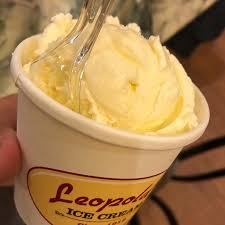ice-cream: (31, 14, 203, 134)
